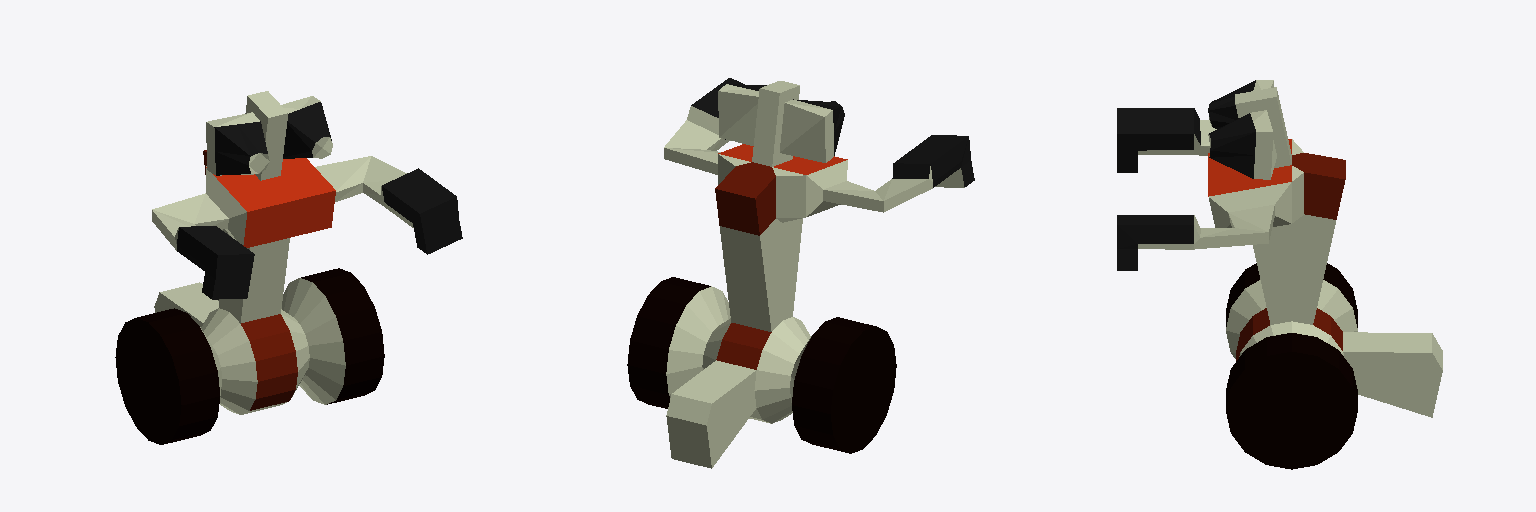
The picture shows the model from 3 angles: view 1: azimuth 30°, elevation 25°; view 2: azimuth 150°, elevation 25°; view 3: azimuth 270°, elevation 25°; orthographic projection.
Parts seen in each view (by area): view 1: droid; view 2: droid; view 3: droid.
Boxes of the visible parts, x1,y1,x2,y2 form: droid: [115, 91, 462, 444]; droid: [627, 78, 974, 468]; droid: [1117, 80, 1442, 469].
Size of the model in its own units: 0.8 by 1 by 0.9.
Materials: 2 (1 with a texture image).